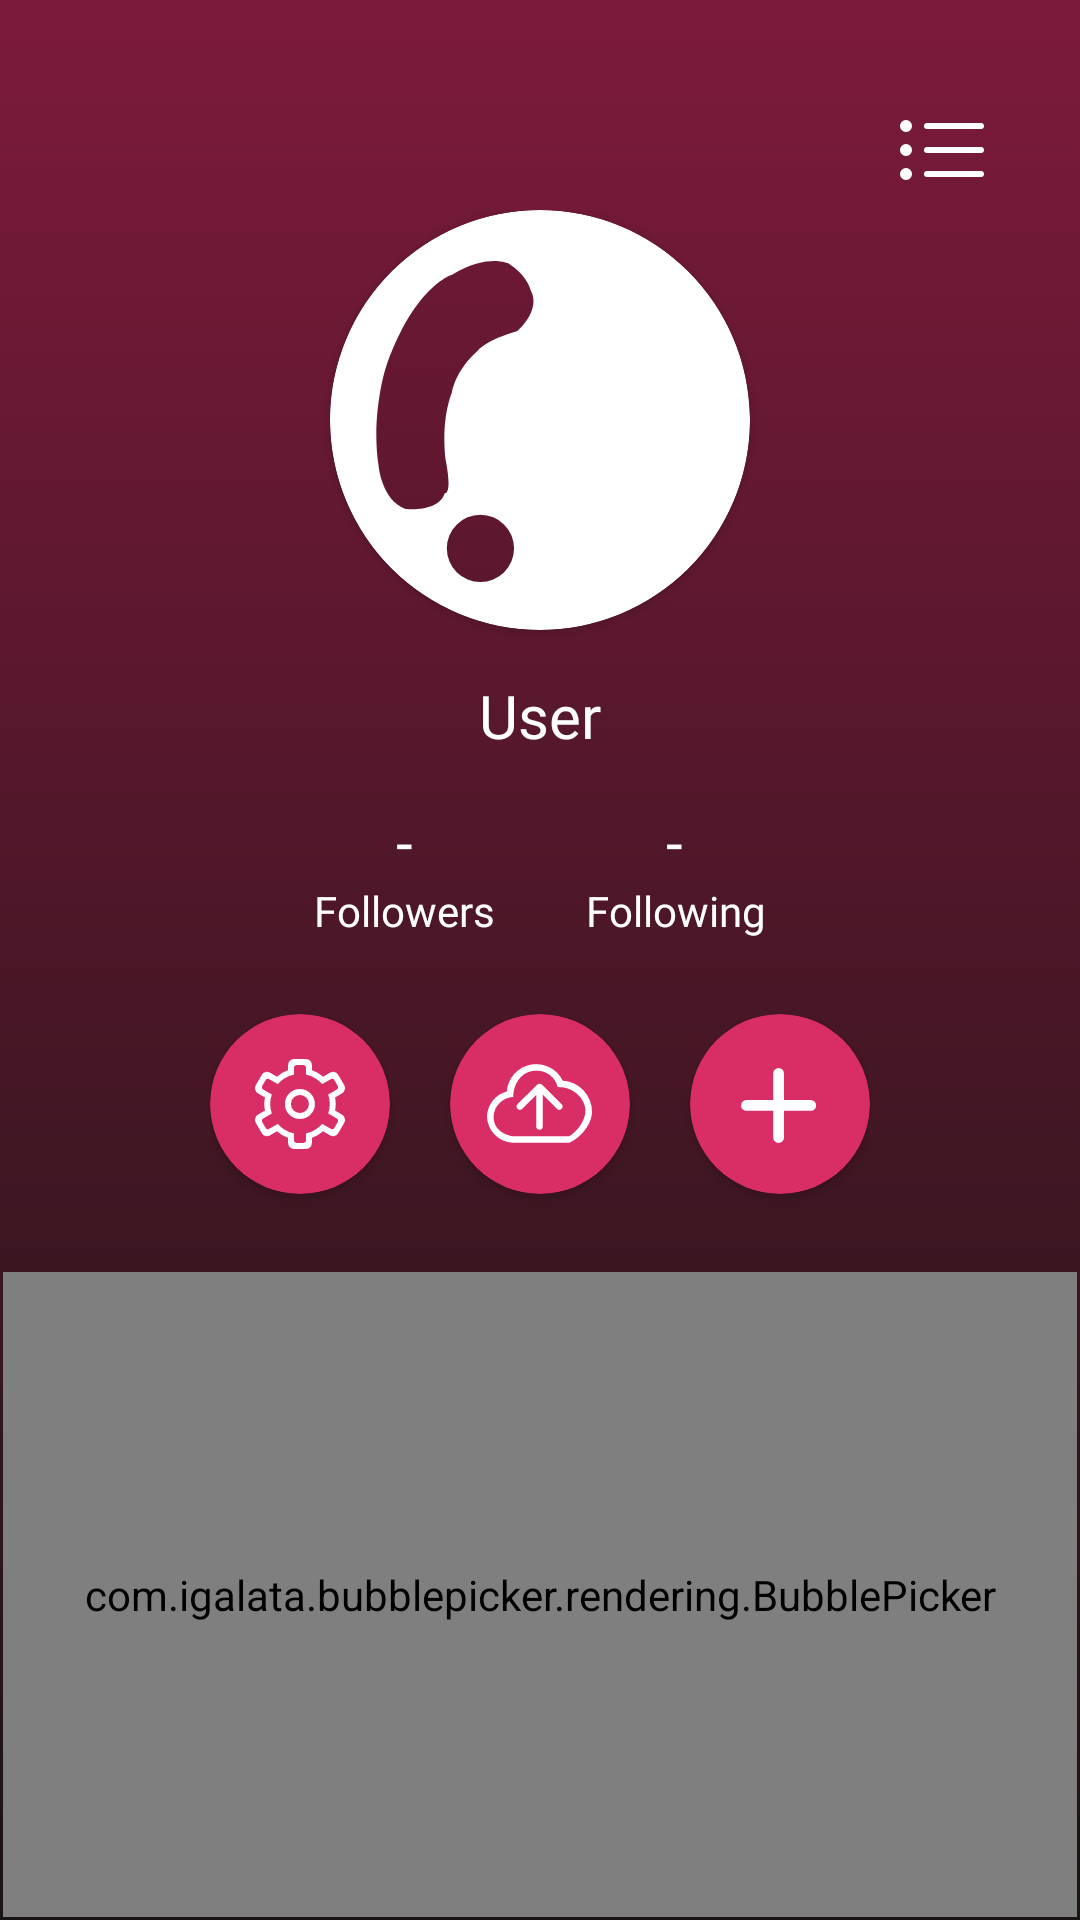

Icon click points for this 1080px x 1920px phone screenshot, format [x,y]:
add: [778,1105]
config: [300,1104]
queue: [942,150]
upload: [539,1103]
